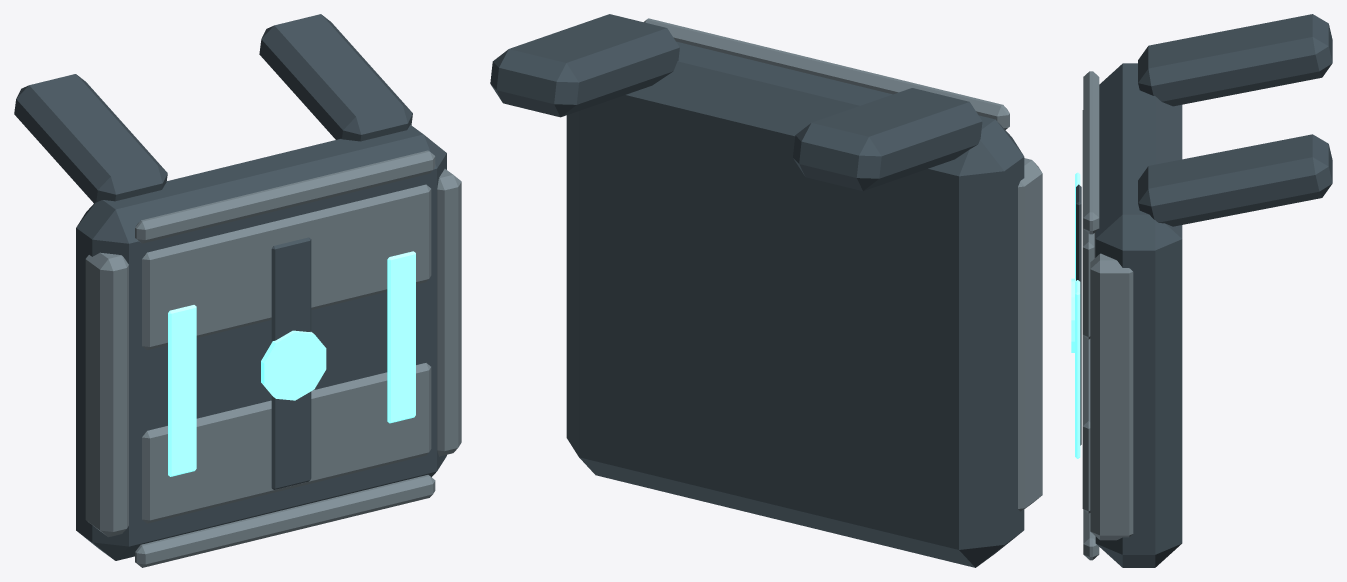
File: EngineeringPlasticChestArmor.glb
3 views of the same model, side by side, from view 1: azimuth 30°, elevation 25°; view 2: azimuth 150°, elevation 25°; view 3: azimuth 270°, elevation 25° (orthographic). The views are drawn at different scales.
Parts seen in each view (by area): view 1: ChestShell, PolymerUpperPlate, PolymerLowerPlate, ChestSideWrap_L, ChestShoulderAnchor_L, ChestShoulderAnchor_R, PolymerCenterSpine, ChestBottomRim, ChestTopRim, ChestSideWrap_R, PolymerStatusStrip_R, PolymerStatusStrip_L (+1 smaller); view 2: ChestShell, ChestShoulderAnchor_L, ChestShoulderAnchor_R, ChestSideWrap_L, ChestTopRim; view 3: ChestShell, ChestSideWrap_R, ChestShoulderAnchor_R, ChestShoulderAnchor_L, ChestTopRim, PolymerLowerPlate, PolymerUpperPlate, PolymerStatusStrip_R, PolymerCenterSpine, ChestBottomRim.
Part boxes in pixels (box(x1,y1,x2,y2)): ChestShell: box(76, 125, 446, 560); PolymerUpperPlate: box(142, 184, 431, 350); PolymerLowerPlate: box(142, 363, 431, 523); ChestSideWrap_L: box(85, 252, 128, 537); ChestShoulderAnchor_L: box(14, 74, 167, 203); ChestShoulderAnchor_R: box(259, 14, 412, 141); PolymerCenterSpine: box(271, 237, 311, 489); ChestBottomRim: box(135, 475, 435, 567); ChestTopRim: box(135, 150, 435, 243); ChestSideWrap_R: box(437, 169, 461, 456); PolymerStatusStrip_R: box(387, 251, 415, 423); PolymerStatusStrip_L: box(168, 305, 196, 476); ChestShell: box(566, 41, 1024, 567); ChestShoulderAnchor_L: box(793, 88, 982, 190); ChestShoulderAnchor_R: box(490, 14, 679, 117); ChestSideWrap_L: box(1018, 158, 1042, 511); ChestTopRim: box(643, 18, 1009, 129); ChestShell: box(1095, 63, 1182, 567); ChestSideWrap_R: box(1090, 253, 1133, 540); ChestShoulderAnchor_R: box(1138, 134, 1332, 226); ChestShoulderAnchor_L: box(1138, 14, 1332, 106); ChestTopRim: box(1083, 71, 1099, 234); PolymerLowerPlate: box(1082, 335, 1090, 513); PolymerUpperPlate: box(1082, 110, 1094, 339); PolymerStatusStrip_R: box(1075, 280, 1080, 458); PolymerCenterSpine: box(1076, 184, 1081, 445); ChestBottomRim: box(1083, 510, 1099, 560).
Size of the model in its own units: 0.775 by 0.8288 by 0.4827.
